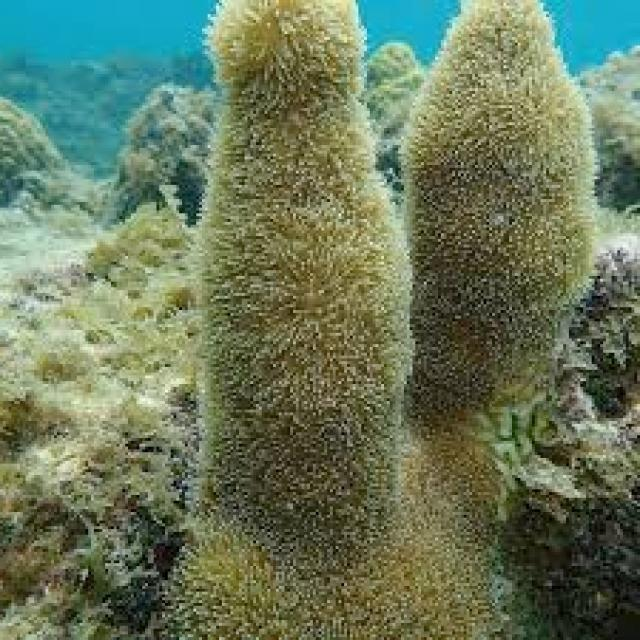Coral: (162, 0, 600, 640)
